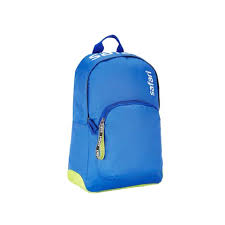backpack: (66, 34, 163, 192)
